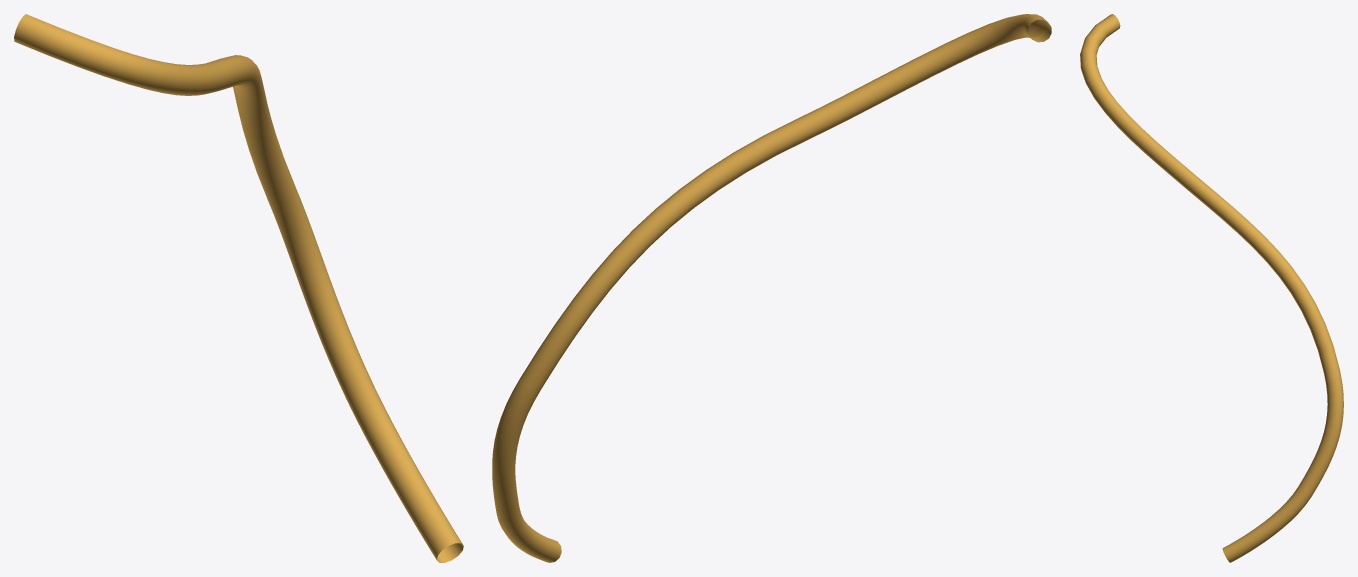
The picture shows the model from 3 angles, left to right: view 1: azimuth 30°, elevation 25°; view 2: azimuth 150°, elevation 25°; view 3: azimuth 270°, elevation 25°; orthographic projection. The views are drawn at different scales.
Visible parts, largest first — view 1: 右侧下颌下腺管; view 2: 右侧下颌下腺管; view 3: 右侧下颌下腺管.
Part boxes in pixels (<box>): 右侧下颌下腺管: <box>14,14,463,562</box>; 右侧下颌下腺管: <box>492,14,1051,562</box>; 右侧下颌下腺管: <box>1080,14,1343,562</box>.
Bounding box in the file's own units: 0.0305 × 0.0396 × 0.0232.
